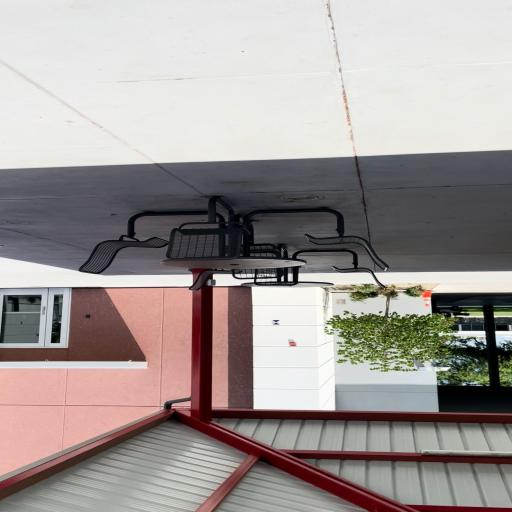target2: (272, 320, 280, 324)
